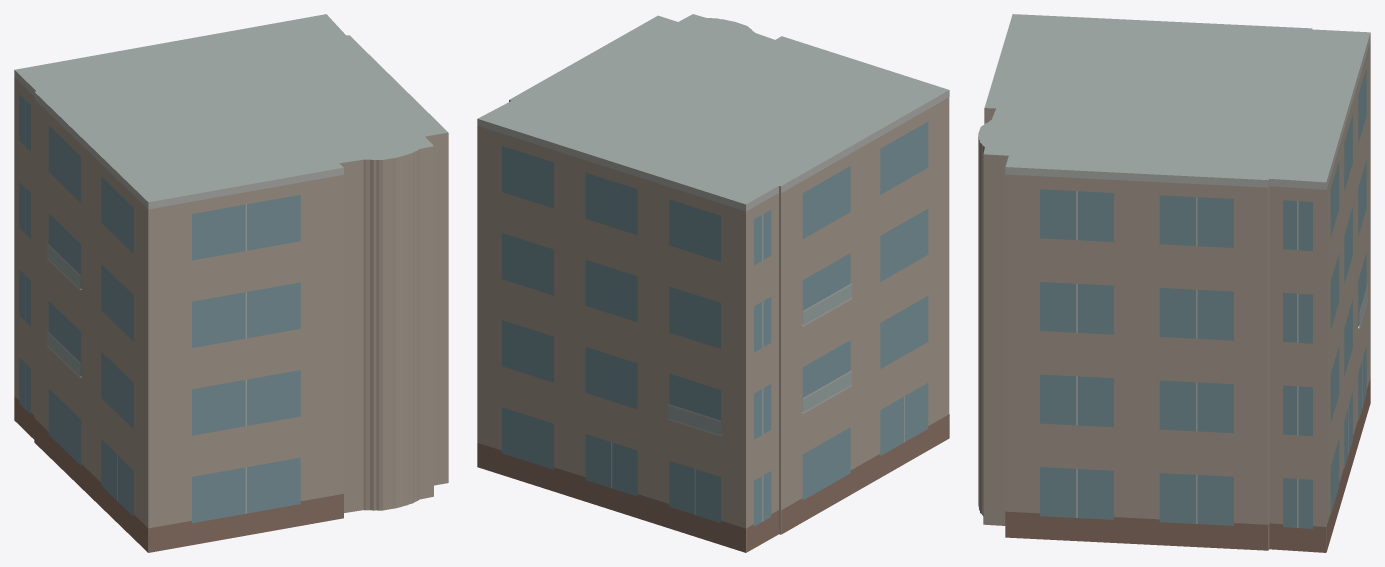
Rendered from survey-upis-32520532.glb.
The picture shows the model from 3 angles, left to right: view 1: azimuth 30°, elevation 25°; view 2: azimuth 150°, elevation 25°; view 3: azimuth 270°, elevation 25°; orthographic projection. The views are drawn at different scales.
Parts seen in each view (by area): view 1: survey-upis-32520532.tmp; view 2: survey-upis-32520532.tmp; view 3: survey-upis-32520532.tmp.
Boxes of the visible parts, x1,y1,x2,y2 form: survey-upis-32520532.tmp: (14,14,448,552); survey-upis-32520532.tmp: (477,14,949,552); survey-upis-32520532.tmp: (978,14,1370,552).
Size of the model in its own units: 11.81 by 12.1 by 11.62.
